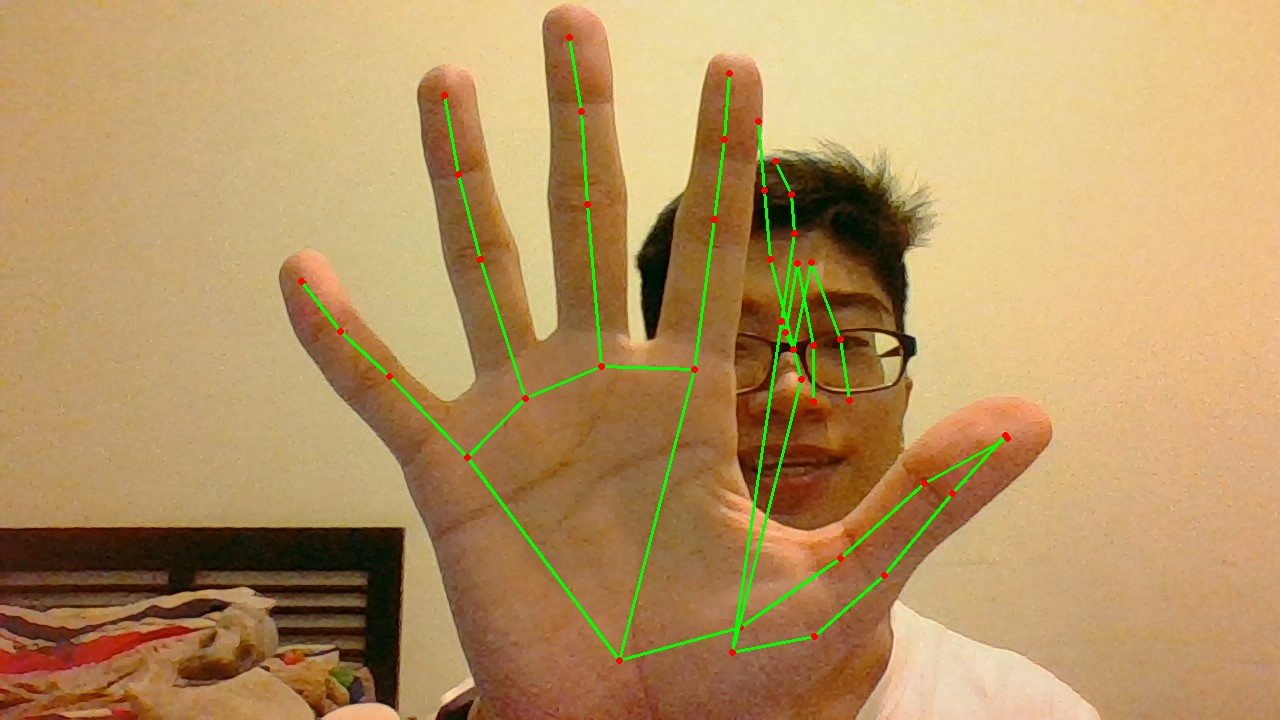Hello: (288, 23, 1020, 670)
